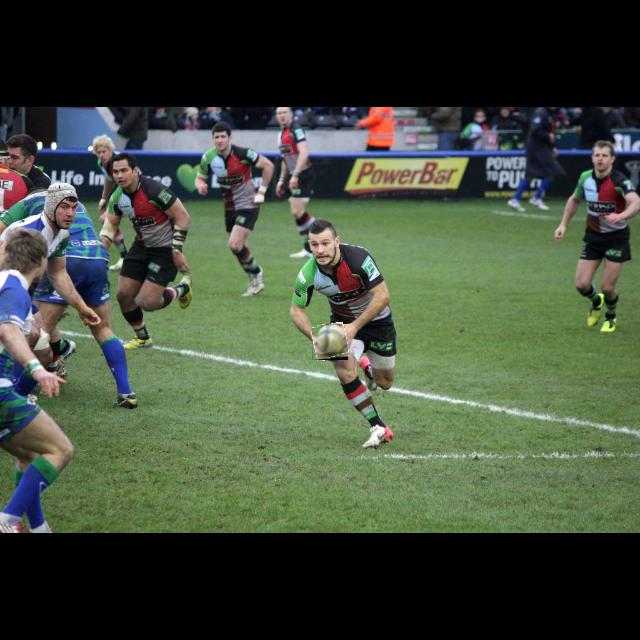Football: (312, 324, 348, 360)
